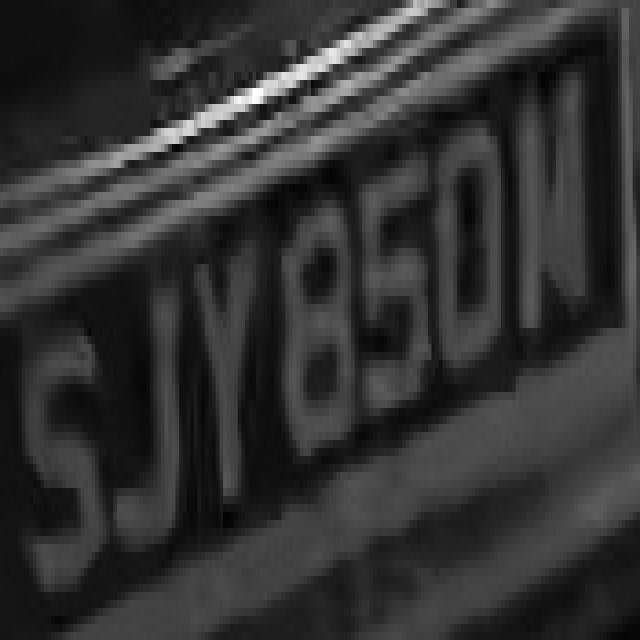0: (424, 104, 508, 408)
5: (351, 136, 432, 448)
8: (274, 168, 362, 480)
J: (102, 240, 190, 560)
M: (504, 64, 600, 344)
S: (22, 304, 110, 632)
Y: (183, 224, 260, 536)
